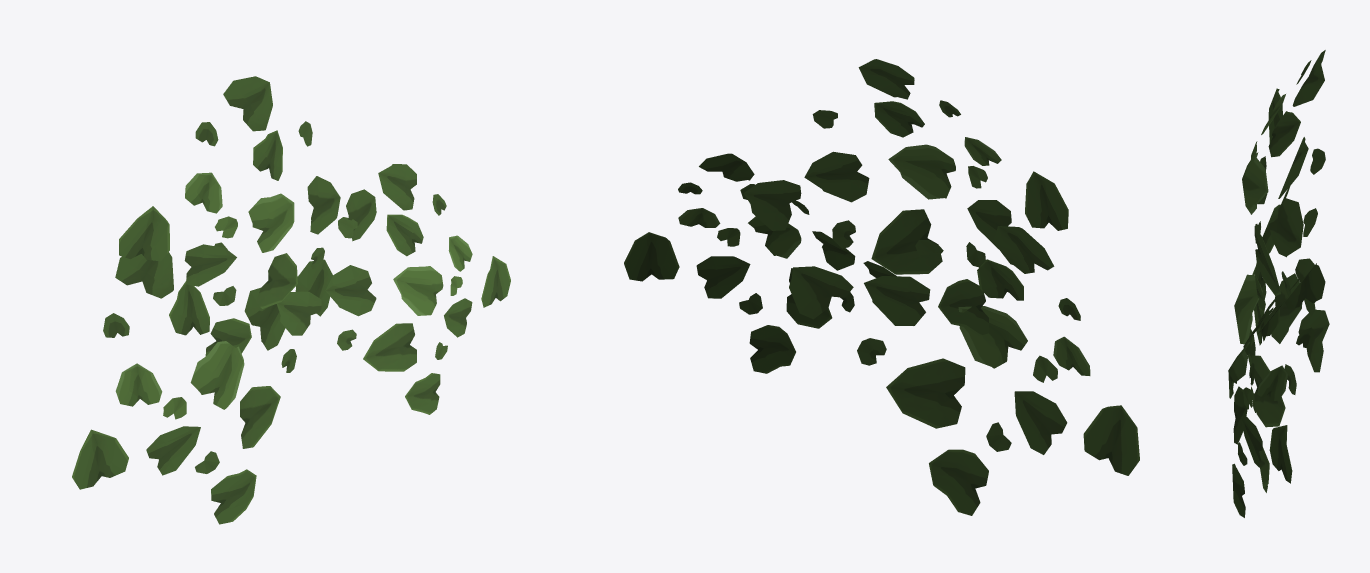
File: SM_Env_Vines_05.fbx
3 renders of one model, left to right at view 1: azimuth 30°, elevation 25°; view 2: azimuth 150°, elevation 25°; view 3: azimuth 270°, elevation 25°, orthographic. The views are drawn at different scales.
Visible parts, largest first — view 1: SM_Env_Vines_05_LOD0; view 2: SM_Env_Vines_05_LOD0; view 3: SM_Env_Vines_05_LOD0.
Part boxes in pixels (x1=…): SM_Env_Vines_05_LOD0: x1=72, y1=76, x2=510, y2=524; SM_Env_Vines_05_LOD0: x1=624, y1=59, x2=1139, y2=515; SM_Env_Vines_05_LOD0: x1=1228, y1=50, x2=1329, y2=517.
Size of what is drawn, in the model's own units: 372 by 331 by 67.64.
